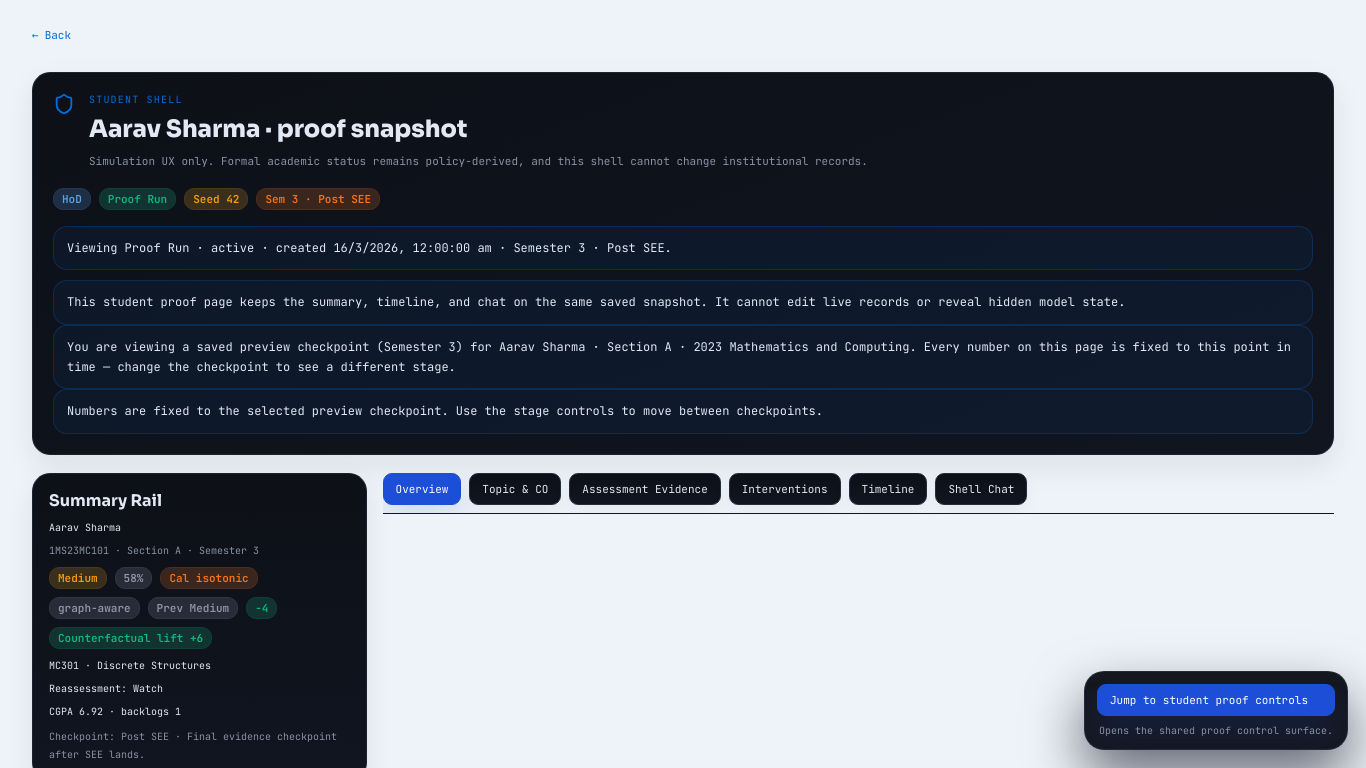
StudentShellPage timeline loading › defers timeline loading until the timeline tab is opened
Expected: the text "Aarav Sharma · proof snapshot" is shown, top-left (89, 114), bottom-right (467, 144)
Click the tab "Timeline" at (888, 489), box top-left (849, 473), bottom-right (927, 505)
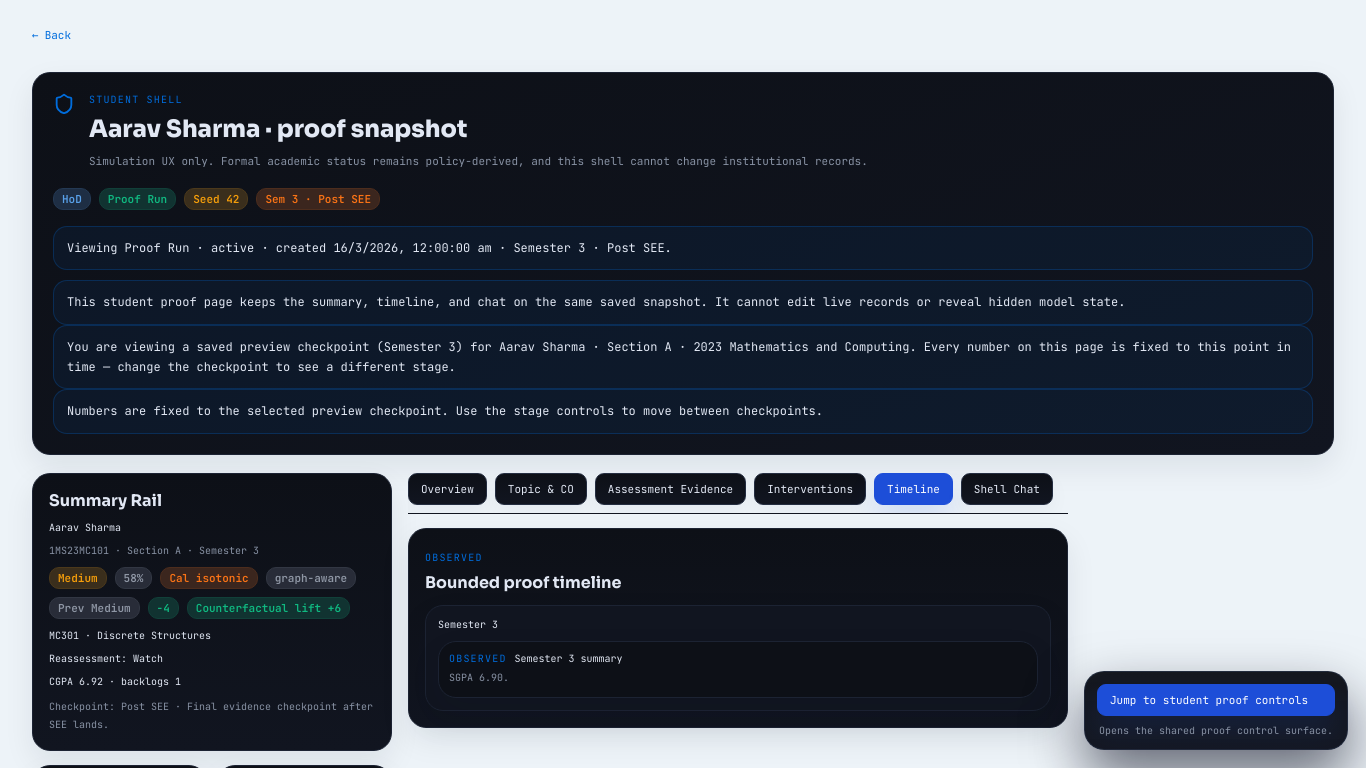
Result: the text "Semester 3 summary" is shown at top-left (515, 652), bottom-right (623, 665)
